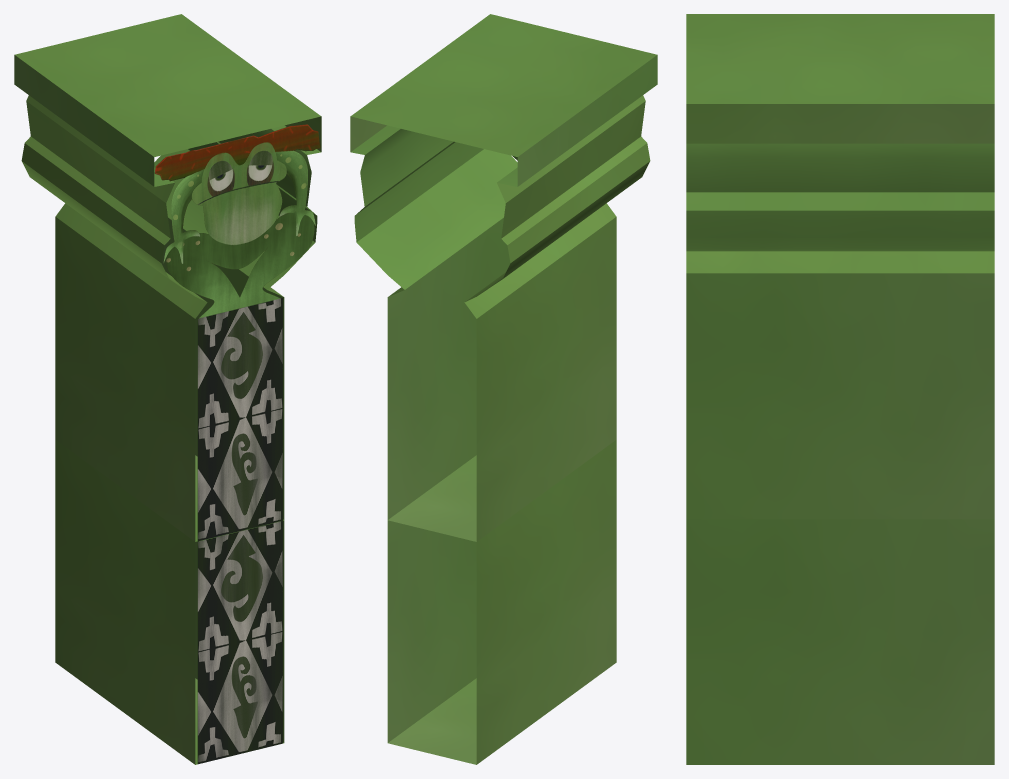
The model's file is Monolito_03.fbx.
3 renders of one model, left to right at view 1: azimuth 30°, elevation 25°; view 2: azimuth 150°, elevation 25°; view 3: azimuth 270°, elevation 25°, orthographic. The views are drawn at different scales.
Visible parts, largest first — view 1: Monolito_03; view 2: Monolito_03; view 3: Monolito_03.
Part boxes in pixels (bbox=[...]): Monolito_03: bbox=[14, 14, 321, 764]; Monolito_03: bbox=[350, 14, 657, 764]; Monolito_03: bbox=[686, 14, 994, 764].
Bounding box in the file's own units: 4.27 × 15.09 × 6.19.
